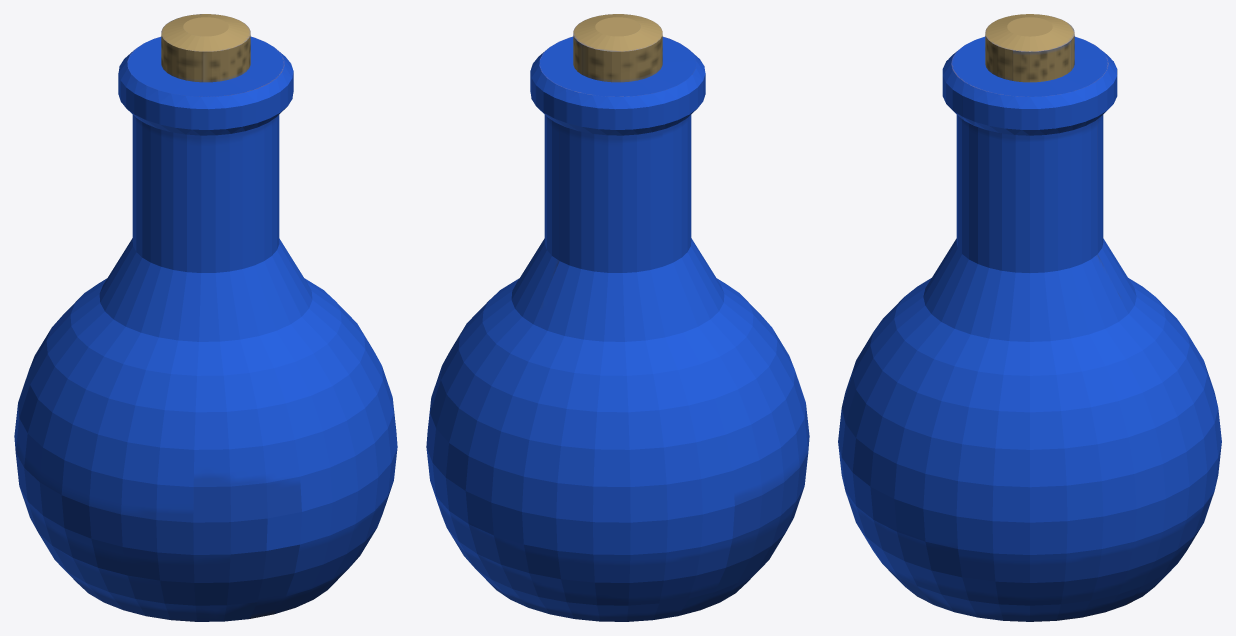
Rendered from health_bonus.fbx.
3 views of the same model, side by side, from view 1: azimuth 30°, elevation 25°; view 2: azimuth 150°, elevation 25°; view 3: azimuth 270°, elevation 25° (orthographic).
Parts seen in each view (by area): view 1: Sphere; view 2: Sphere; view 3: Sphere.
Boxes of the visible parts, x1,y1,x2,y2 form: Sphere: (14,14,397,621); Sphere: (426,14,809,621); Sphere: (838,14,1221,621).
Size of the model in its own units: 200 by 309 by 200.
